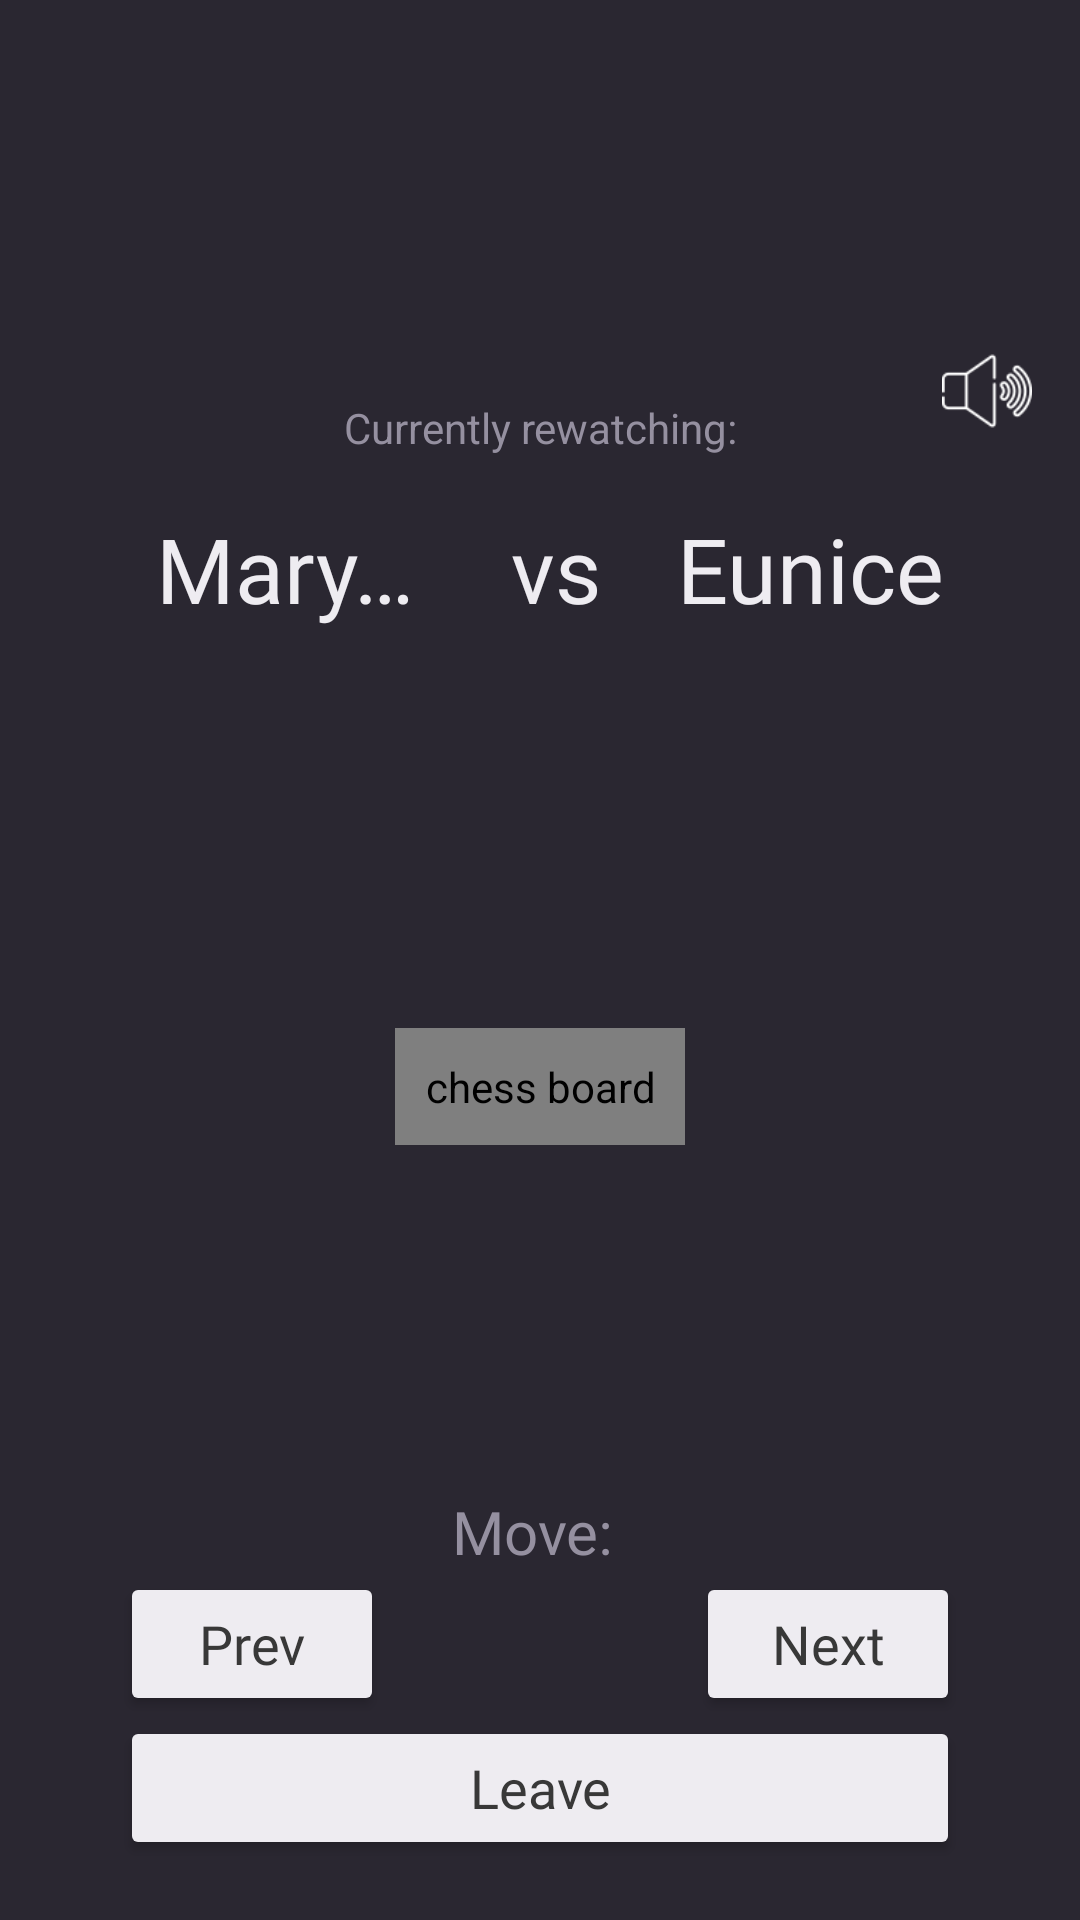

Locate icon controls on the screen. Image size 1080*1920, boxes as {"x1": x1, "y1": y1, "x2": x2, "y2": y2}.
mute or unmute: {"x1": 942, "y1": 354, "x2": 1032, "y2": 428}
